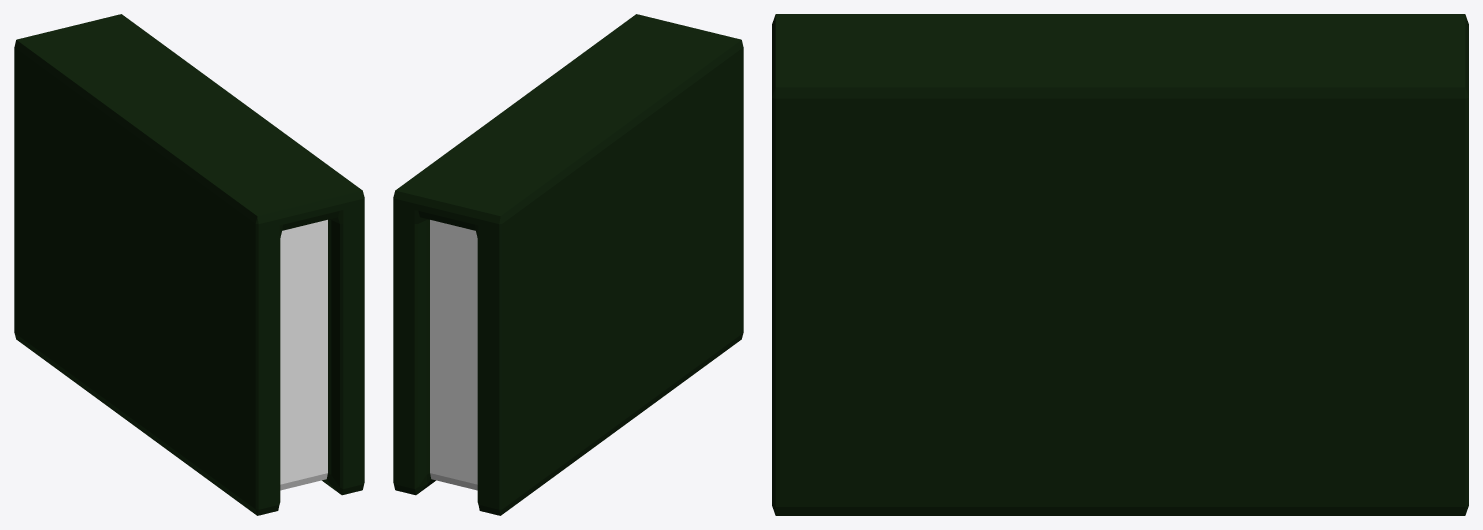
File: book.fbx
3 renders of one model, left to right at view 1: azimuth 30°, elevation 25°; view 2: azimuth 150°, elevation 25°; view 3: azimuth 270°, elevation 25°, orthographic. The views are drawn at different scales.
Visible parts, largest first — view 1: Cube.003; view 2: Cube.003; view 3: Cube.003.
Boxes of the visible parts, <box> form: Cube.003: <box>14,14,364,515</box>; Cube.003: <box>393,14,743,515</box>; Cube.003: <box>772,14,1468,515</box>.
Bounding box in the file's own units: 4.96 × 13.05 × 19.23.
1 material, 1 textured.
